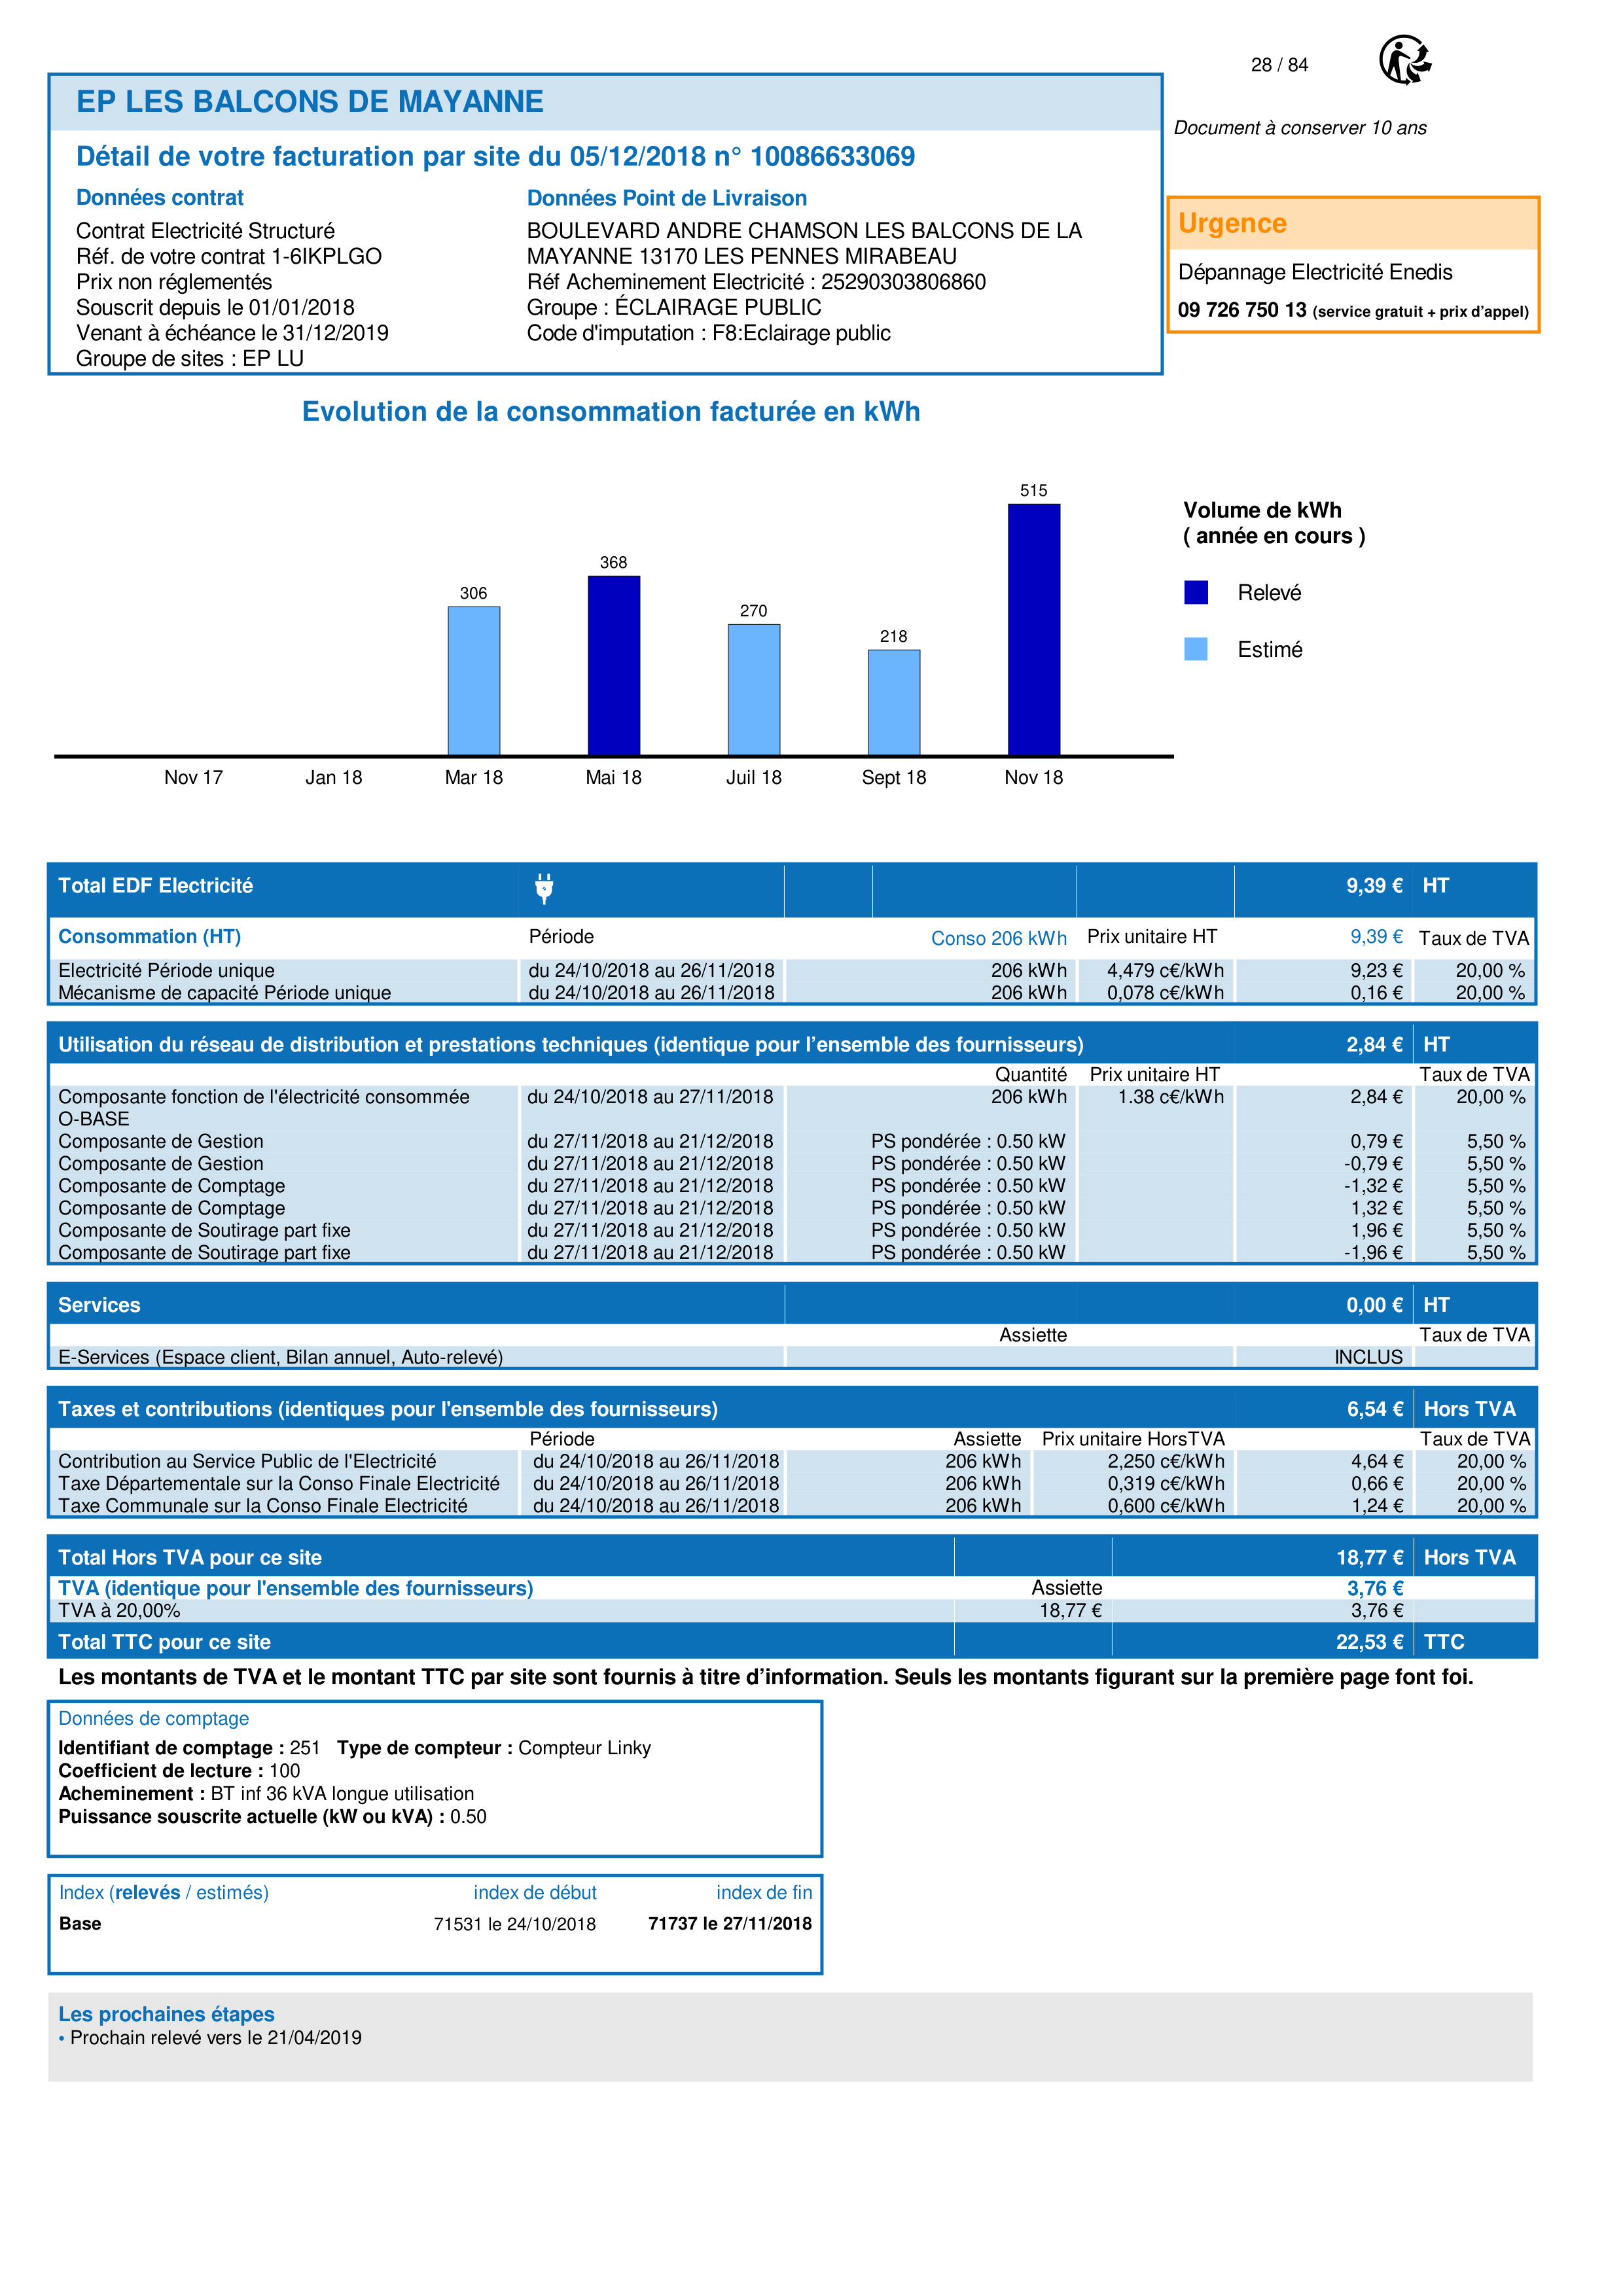area: (46, 1876, 826, 1971)
type_indicator: (46, 1876, 283, 1910)
